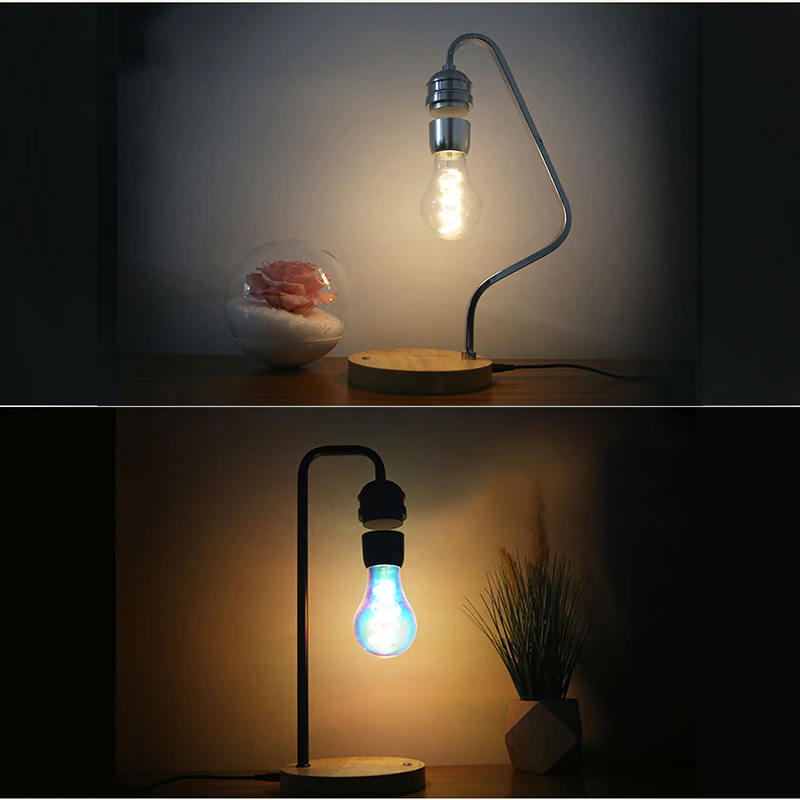bulb: (415, 123, 490, 260), (345, 536, 428, 658)
